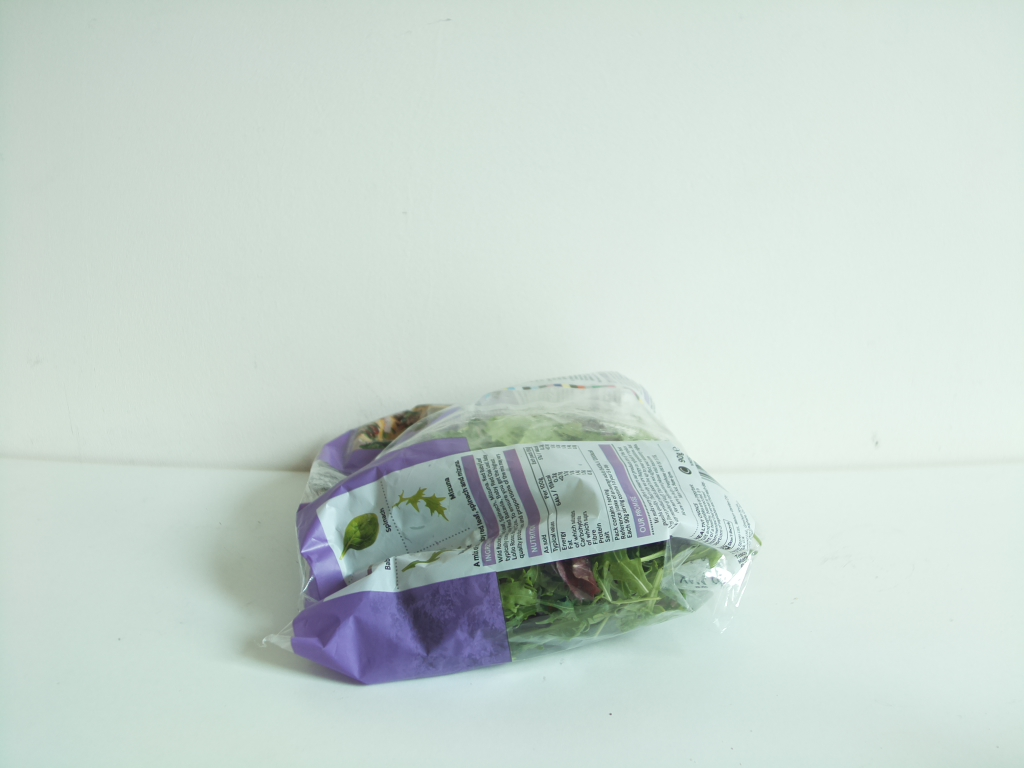salad: (294, 368, 754, 689)
